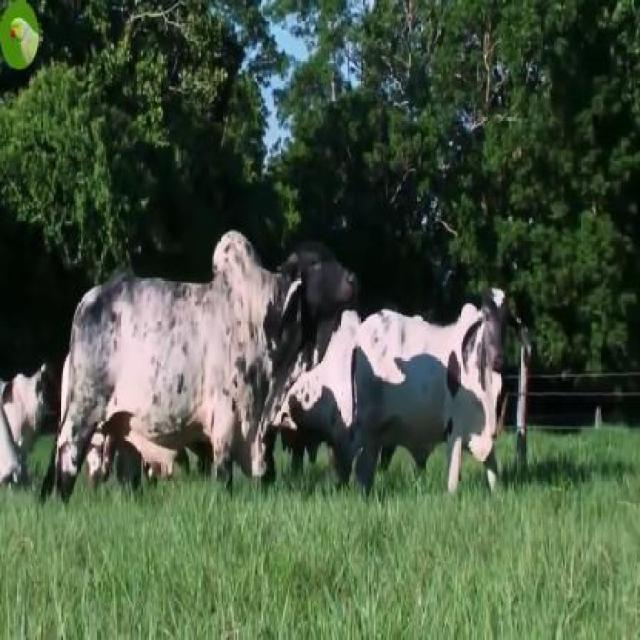Cow: (52, 231, 360, 506)
